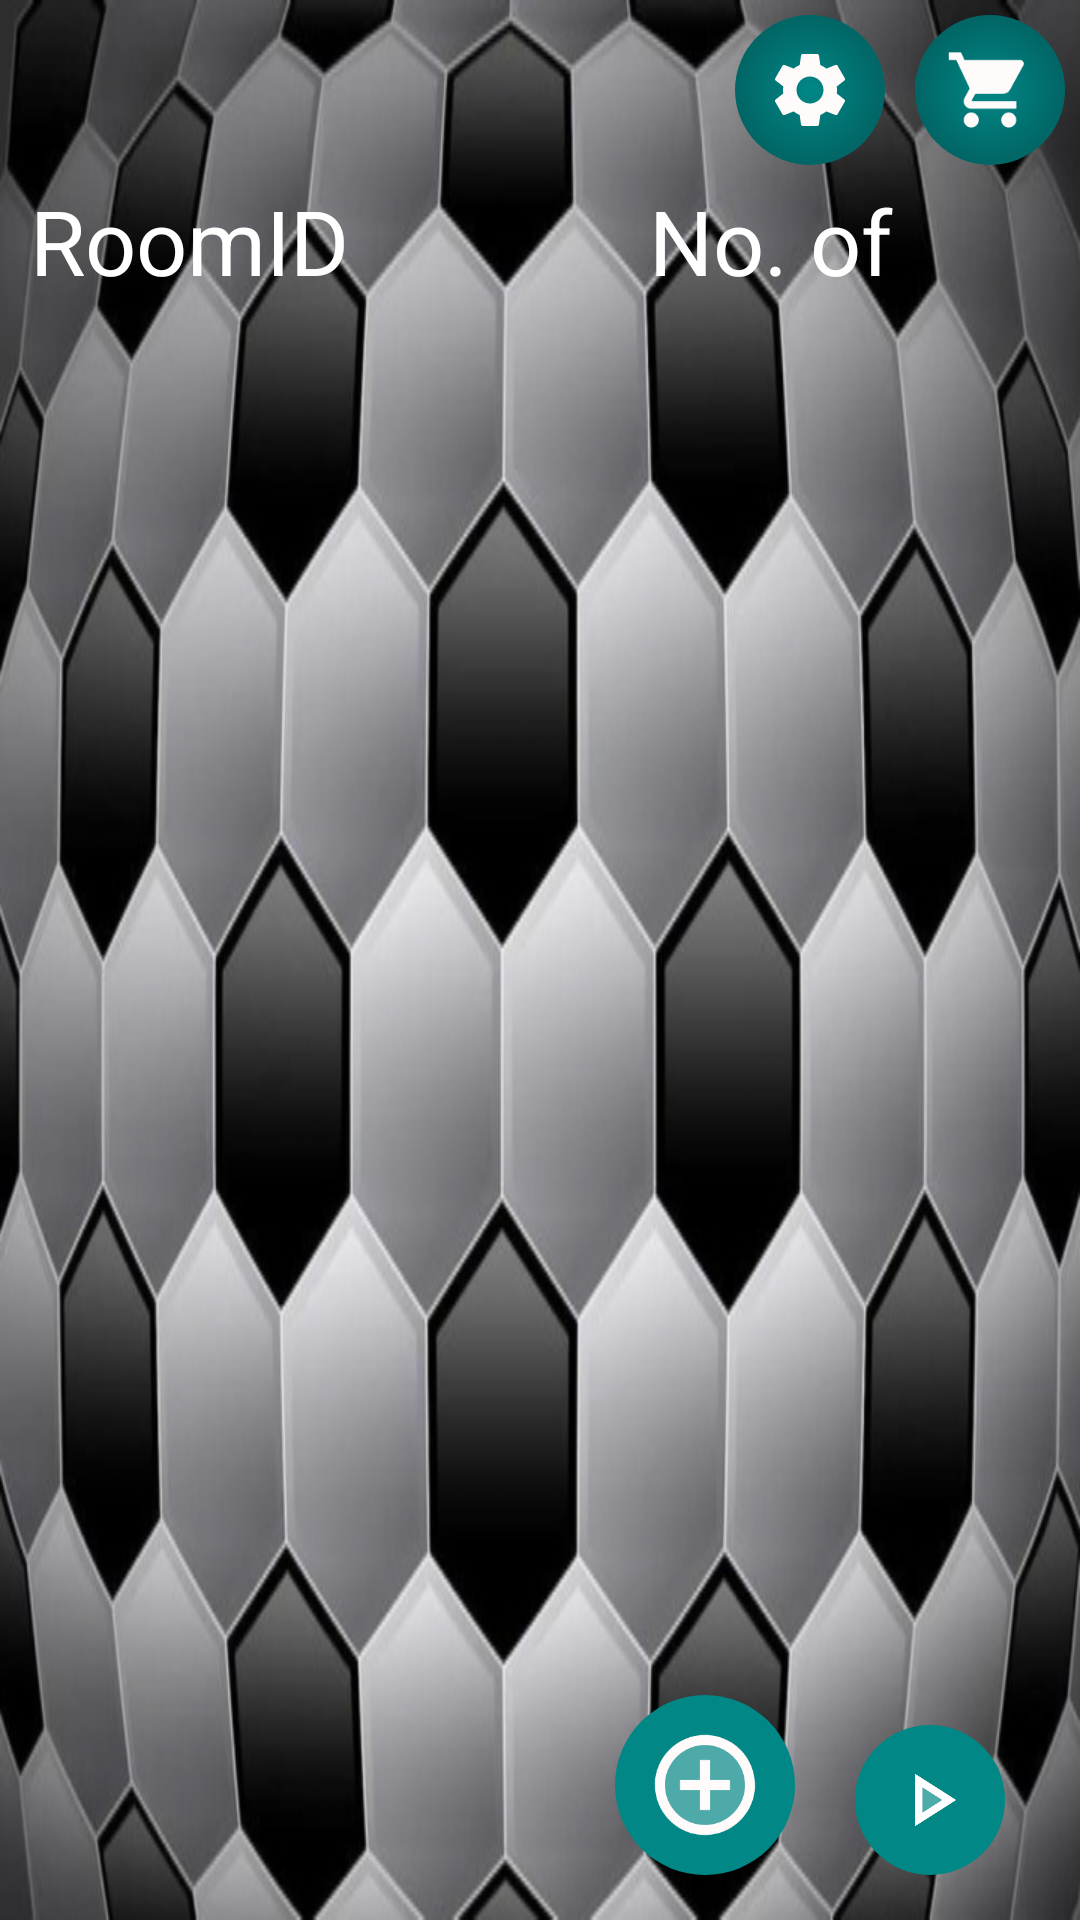

Icon click points for this 1080*1920 phone screenshot, format (x,y):
add circle: (705,1785)
local grocery store: (990,90)
play arrow: (930,1800)
settings: (810,90)
